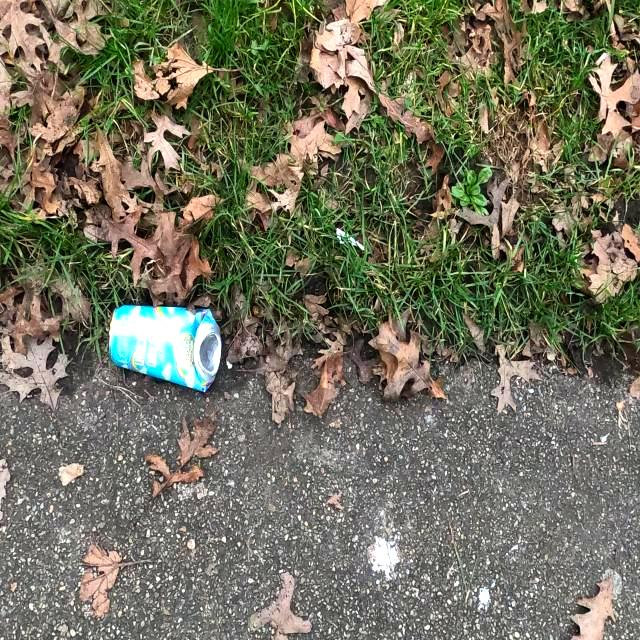Metal: (105, 302, 222, 393)
